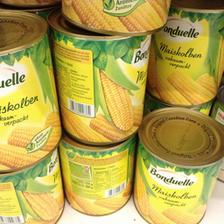Mais: (46, 8, 146, 144), (137, 105, 223, 221), (0, 11, 62, 171), (149, 4, 223, 104), (56, 134, 134, 216), (0, 146, 64, 222)
